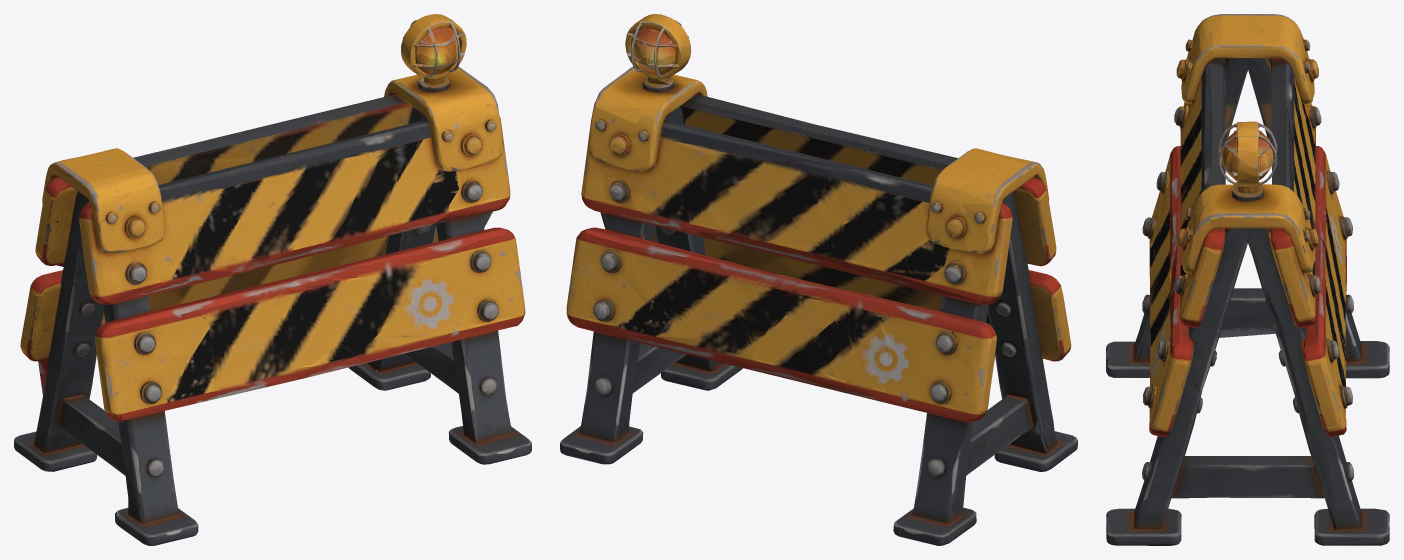
The model's file is crew_barricade.glb.
3 renders of one model, left to right at view 1: azimuth 30°, elevation 25°; view 2: azimuth 150°, elevation 25°; view 3: azimuth 270°, elevation 25°, orthographic. The views are drawn at different scales.
Parts seen in each view (by area): view 1: barricade; view 2: barricade; view 3: barricade.
Part boxes in pixels (x1,y1,x2,y2): barricade: (14,14,531,545); barricade: (560,14,1077,545); barricade: (1106,14,1389,545).
Bounding box in the file's own units: 2.5 × 2.26 × 1.43.
1 material, 1 textured.
